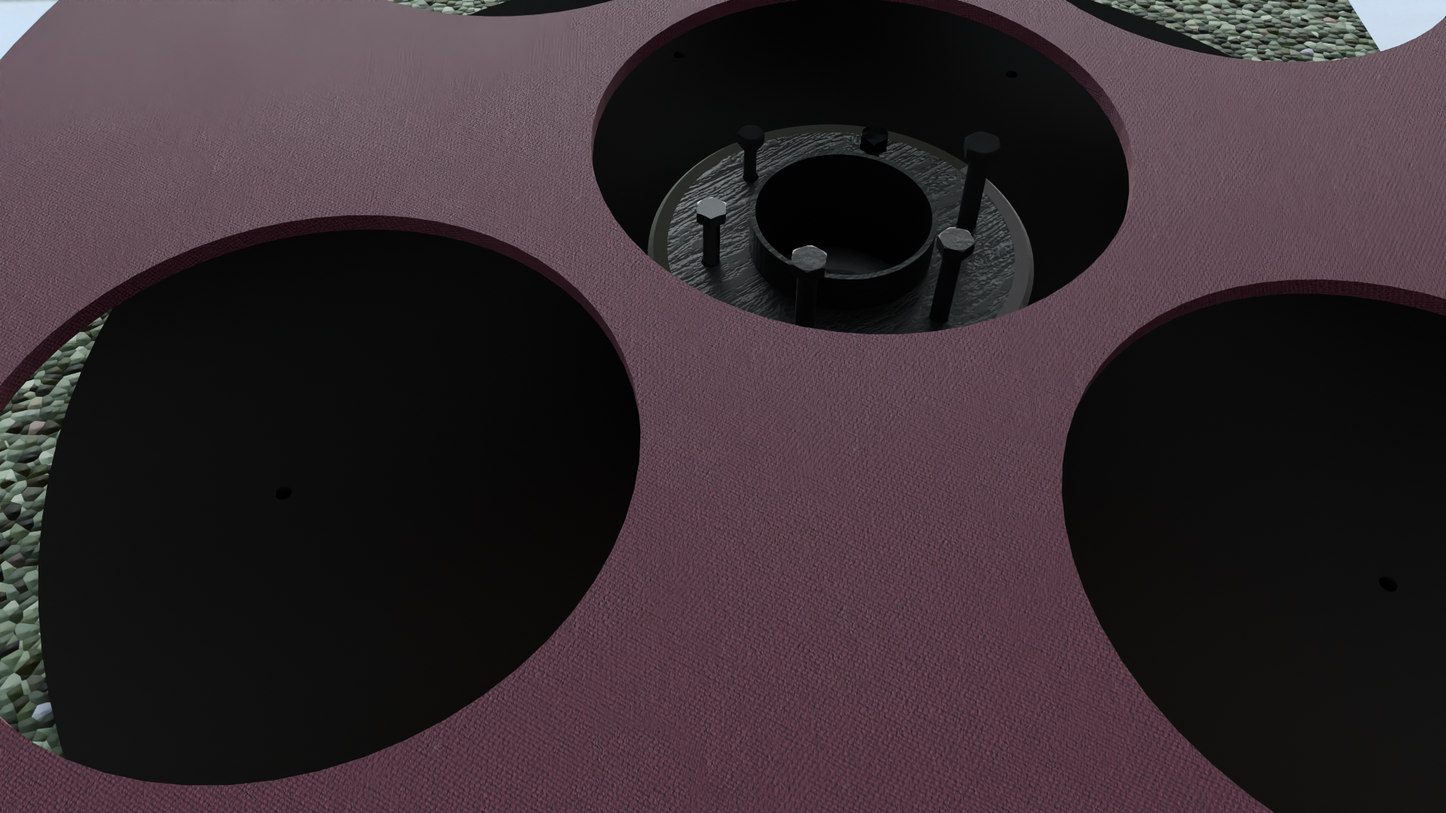bolt: (791, 245, 827, 273), (938, 227, 975, 252), (966, 132, 1001, 155), (697, 197, 726, 220), (861, 126, 889, 146), (738, 125, 764, 142)
